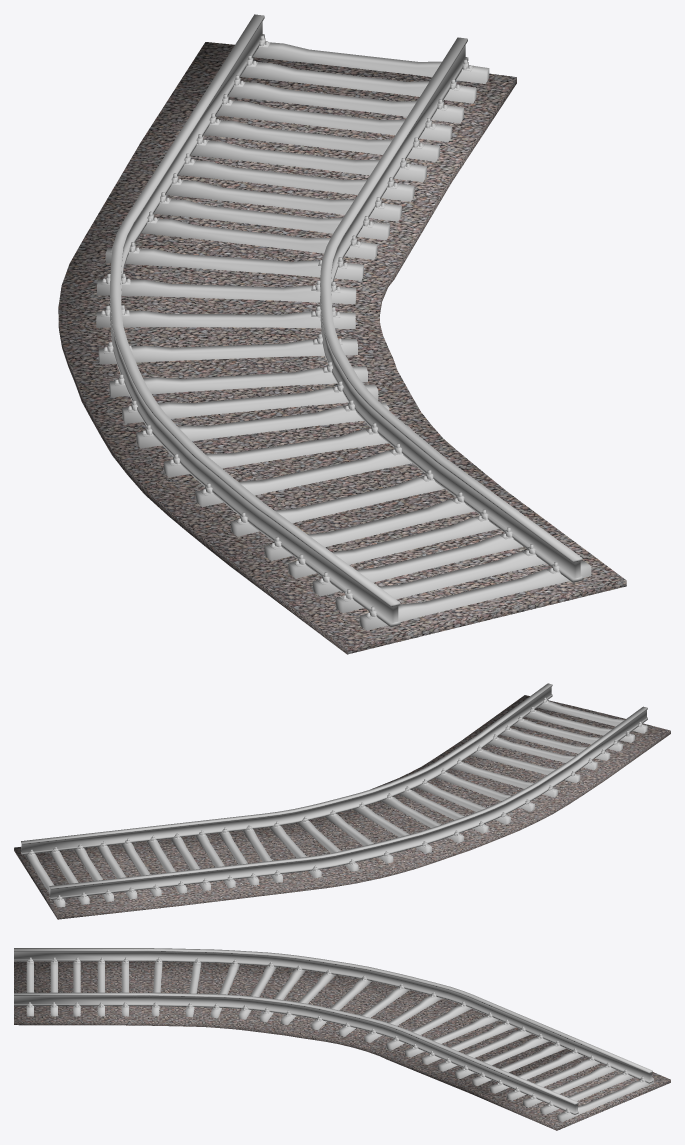
The model's file is track_right45_concrete.fbx.
3 views of the same model, one above another, from view 1: azimuth 30°, elevation 25°; view 2: azimuth 150°, elevation 25°; view 3: azimuth 270°, elevation 25° (orthographic). The views are drawn at different scales.
Visible parts, largest first — view 1: ground, concrete, rails; view 2: ground, rails, concrete; view 3: ground, rails, concrete.
Boxes of the visible parts, left/top/right/bottom form: ground: left=58, top=42, right=626, bottom=654; concrete: left=96, top=42, right=591, bottom=630; rails: left=101, top=14, right=582, bottom=627; ground: left=14, top=695, right=670, bottom=919; rails: left=21, top=683, right=647, bottom=901; concrete: left=24, top=701, right=647, bottom=907; ground: left=14, top=961, right=670, bottom=1130; rails: left=14, top=948, right=653, bottom=1114; concrete: left=26, top=961, right=653, bottom=1121.
Size of the model in its own units: 7.27 by 0.381 by 11.61.
